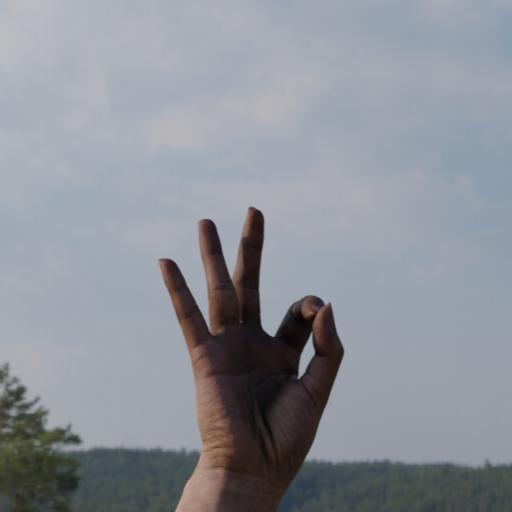F: (138, 192, 374, 512)
